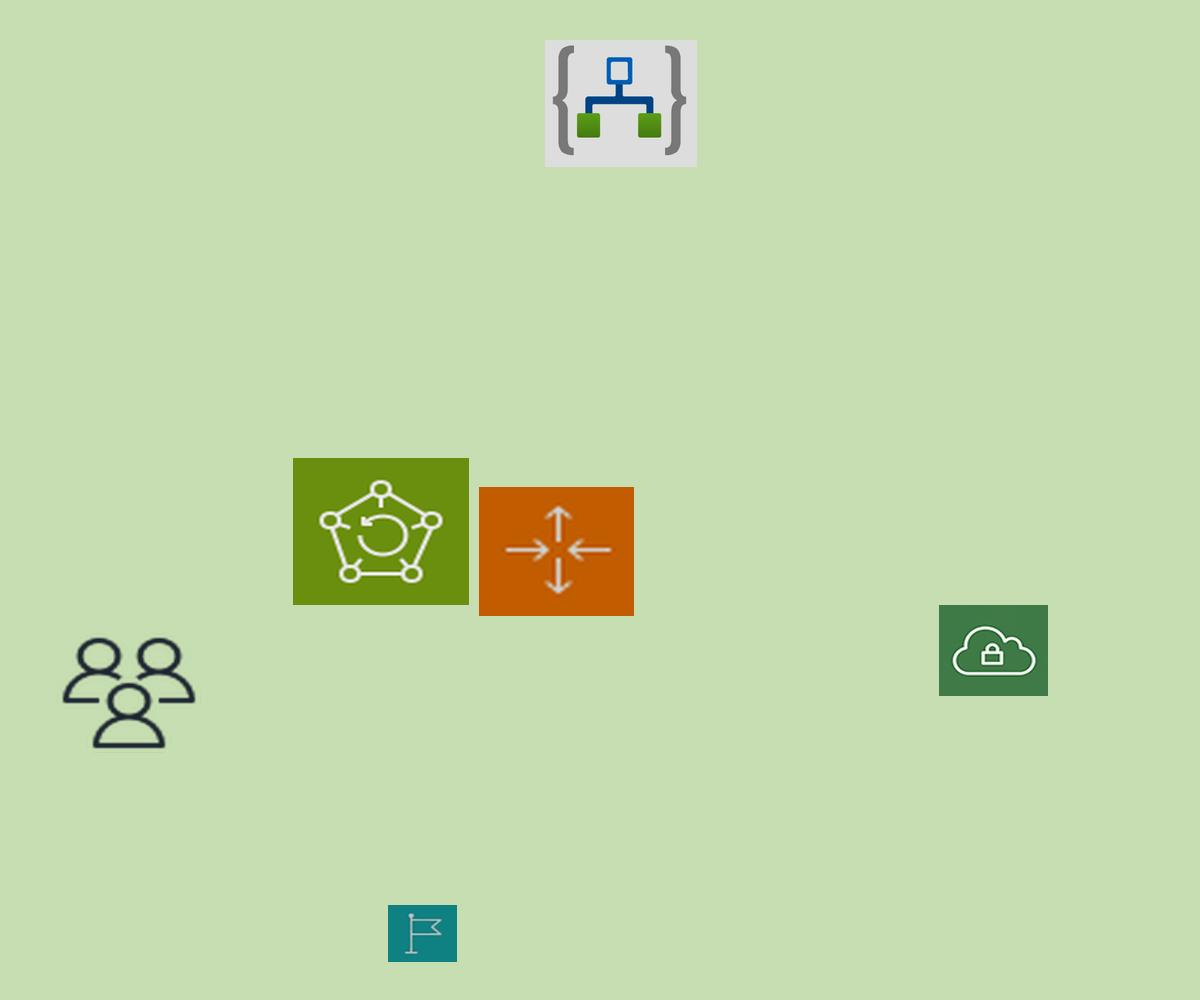AWS-Backup: (293, 458, 469, 605)
AWS-Private_vpc: (939, 605, 1048, 696)
AWS-Region: (388, 905, 457, 962)
AWS-Res_Users: (57, 633, 201, 753)
AWS-Scaling-group: (479, 487, 634, 616)
Azure_integration-204-Logic-Apps: (545, 40, 697, 167)
